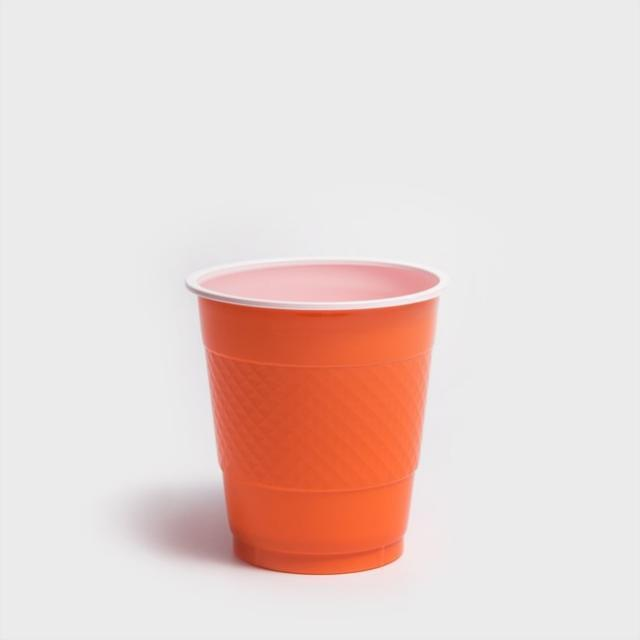Plastic: (185, 255, 442, 579)
